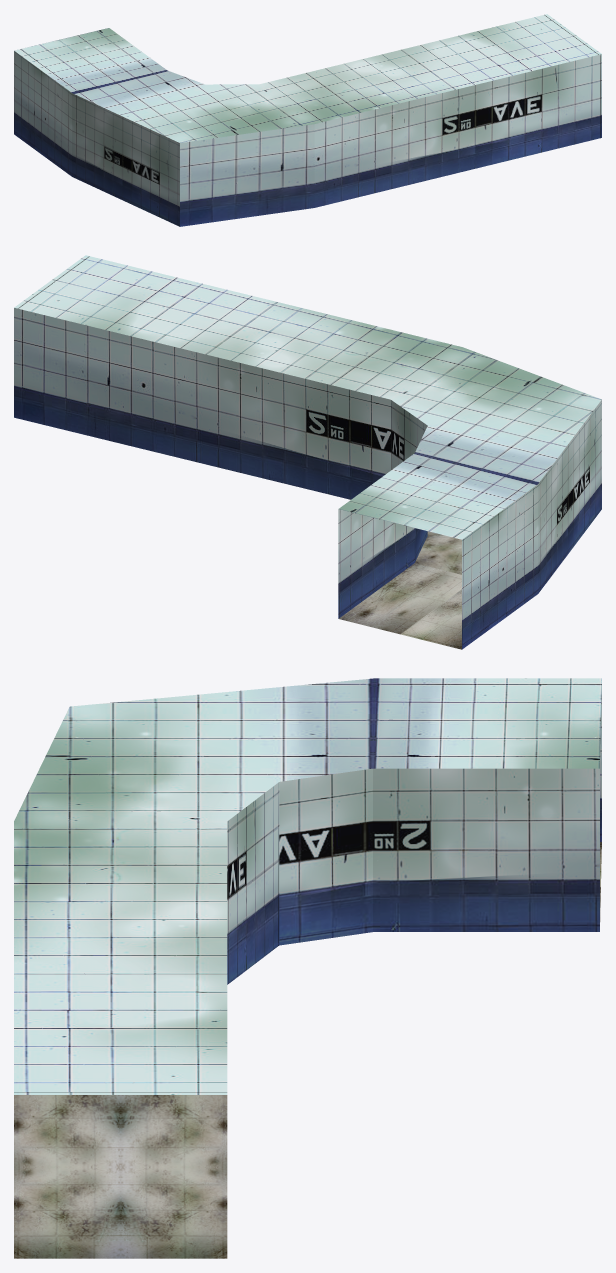
Rendered from metro right hallway 1.fbx.
3 renders of one model, top to bottom at view 1: azimuth 30°, elevation 25°; view 2: azimuth 150°, elevation 25°; view 3: azimuth 270°, elevation 25°, orthographic. The views are drawn at different scales.
Parts seen in each view (by area): view 1: hallway right turn; view 2: hallway right turn; view 3: hallway right turn.
Boxes of the visible parts, x1,y1,x2,y2 form: hallway right turn: (14, 14, 601, 226); hallway right turn: (14, 255, 601, 649); hallway right turn: (14, 678, 601, 1258).
Size of the model in its own units: 2639 by 810 by 4425.
